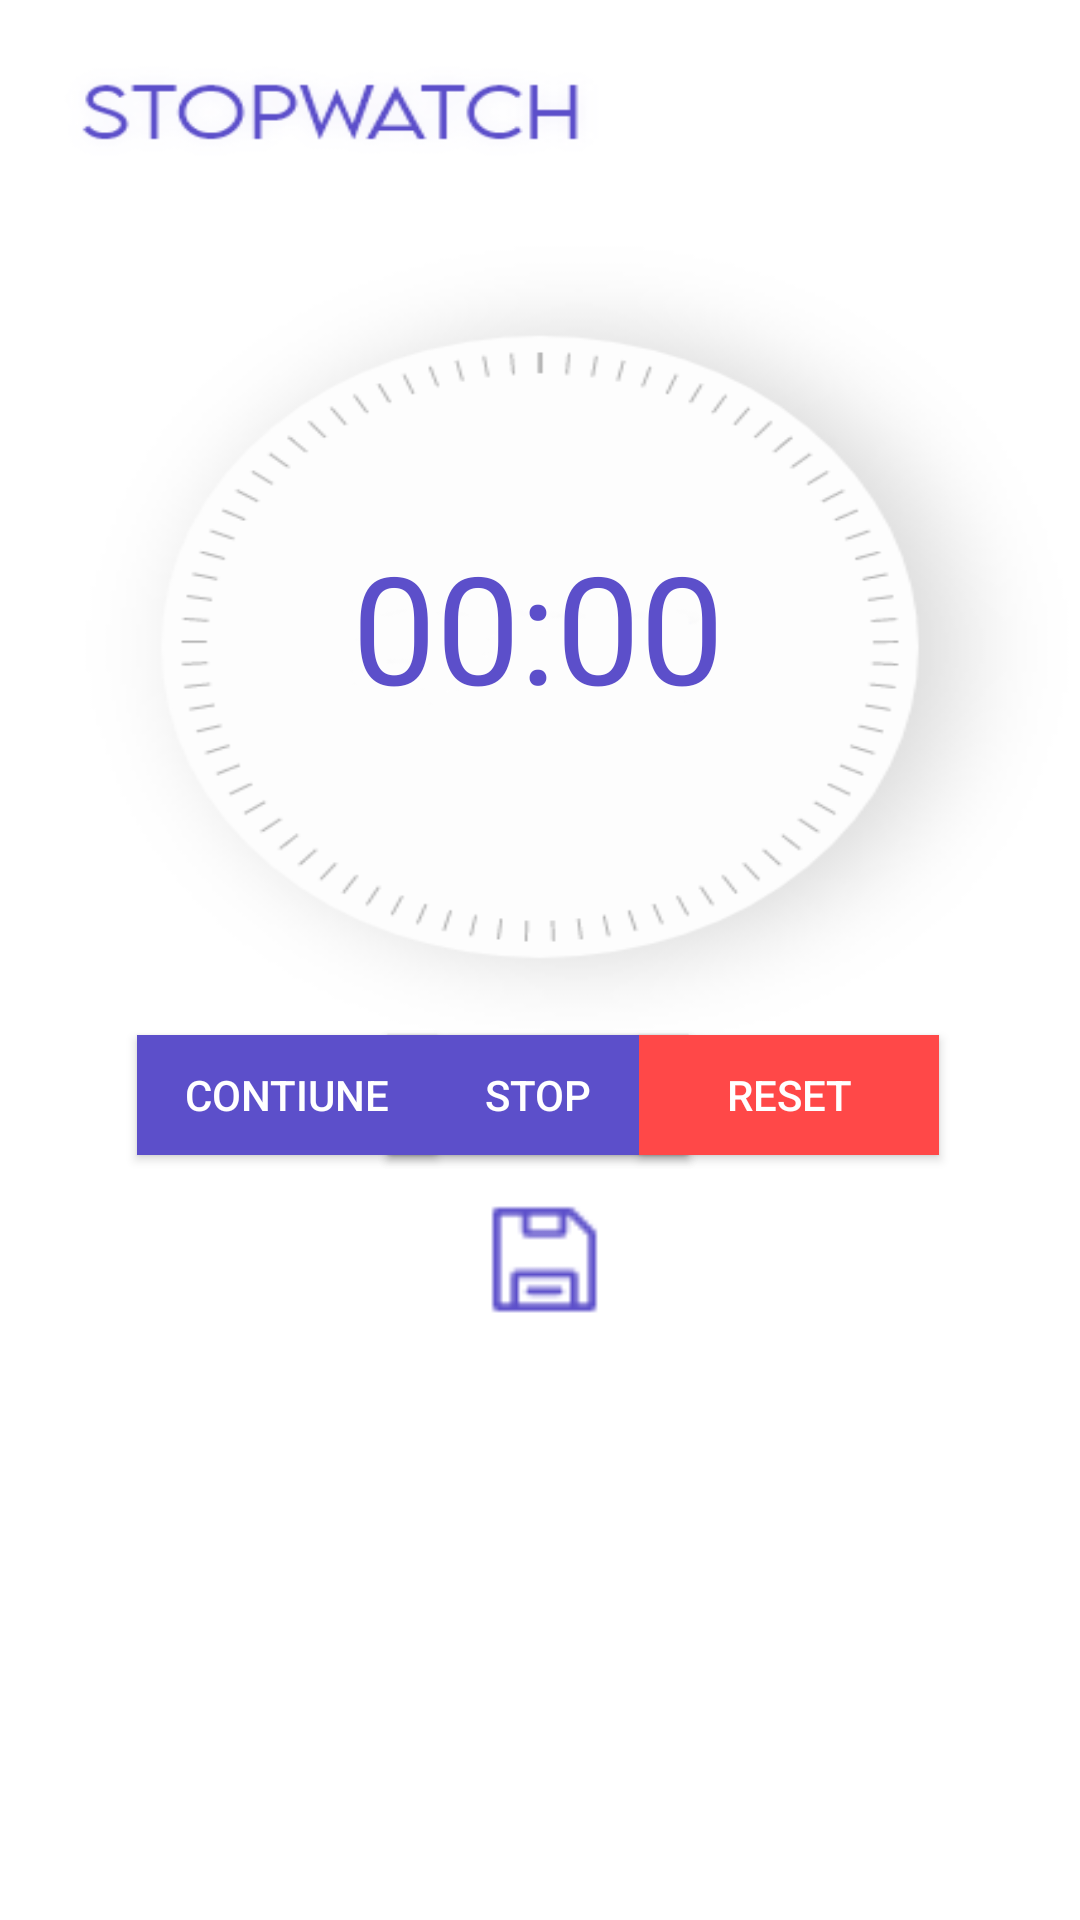

Locate icon controls on the screen. Image size 1080*1920, boxes as (x1, y1, x2, y2).
kayit: (491, 1206, 598, 1313)
